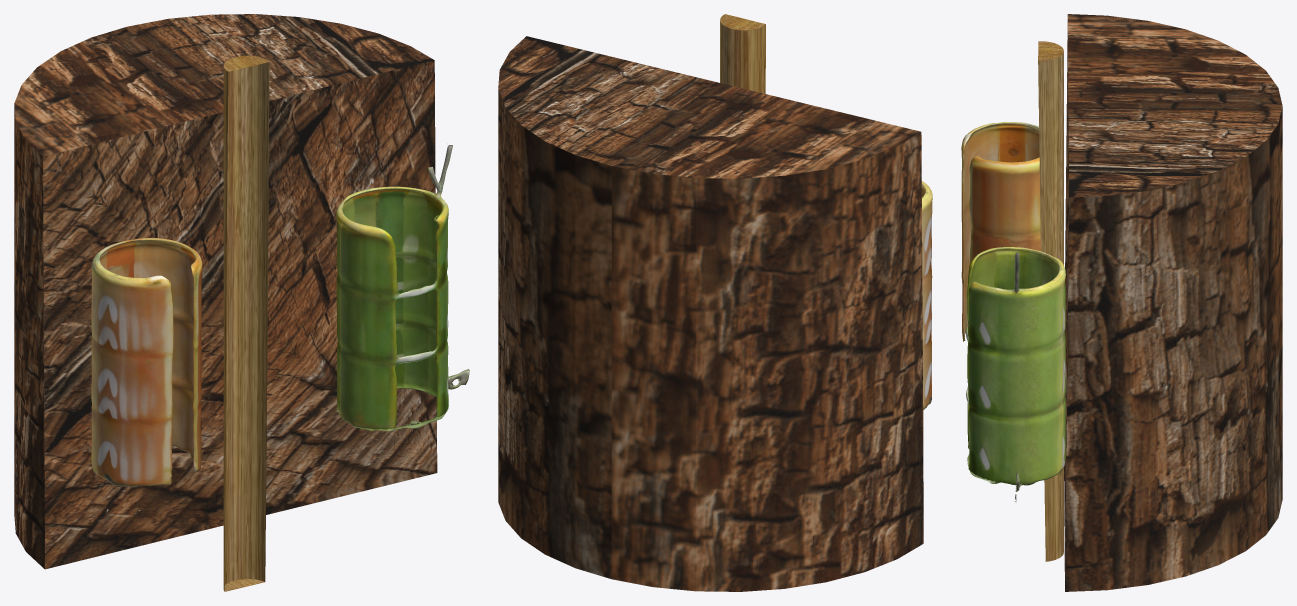
File: stem.glb
The picture shows the model from 3 angles, left to right: view 1: azimuth 30°, elevation 25°; view 2: azimuth 150°, elevation 25°; view 3: azimuth 270°, elevation 25°; orthographic projection. The views are drawn at different scales.
Visible parts, largest first — view 1: stem, xylem, phloem, high_layer; view 2: stem, high_layer, xylem; view 3: stem, phloem, xylem, high_layer.
Part boxes in pixels (box(x1,y1,x2,y2)): stem: box(14, 14, 437, 569); xylem: box(91, 215, 459, 513); phloem: box(315, 145, 469, 463); high_layer: box(223, 55, 269, 591); stem: box(498, 36, 923, 591); high_layer: box(720, 14, 765, 93); xylem: box(921, 181, 932, 409); stem: box(1064, 14, 1282, 591); phloem: box(965, 247, 1065, 502); xylem: box(961, 121, 1065, 486); high_layer: box(1038, 41, 1063, 561).
Size of the model in its own units: 2.04 by 2.54 by 1.48.
3 materials, 3 textured.
